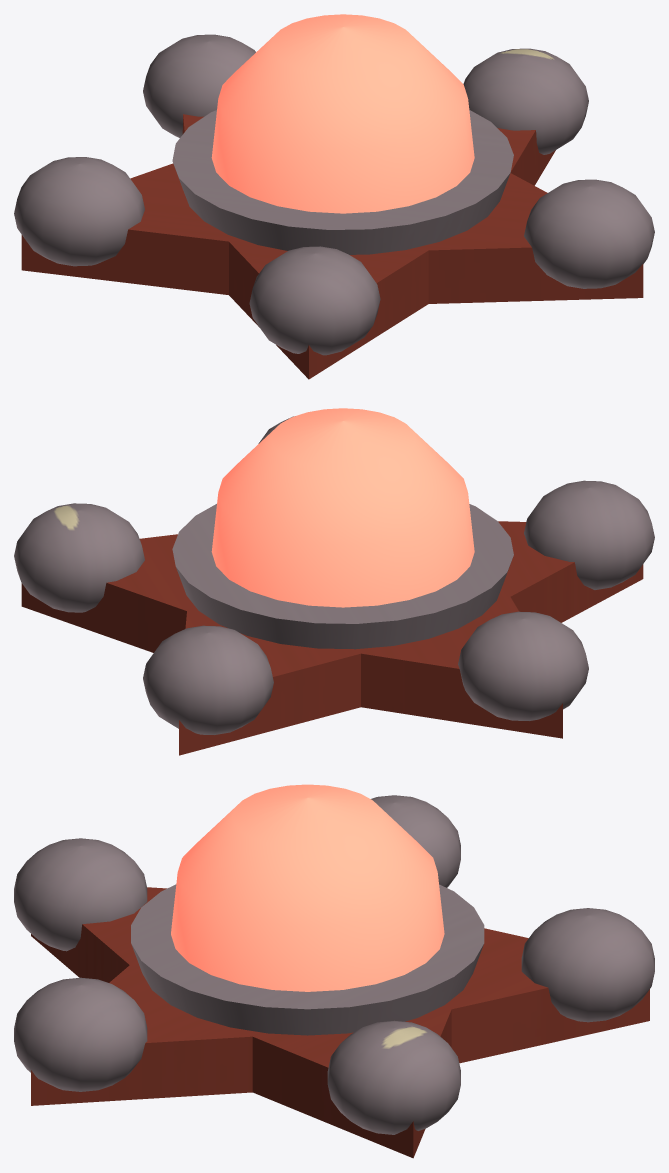
Rendered from R4D_ExplosiveTrap.glb.
3 views of the same model, one above another, from view 1: azimuth 30°, elevation 25°; view 2: azimuth 150°, elevation 25°; view 3: azimuth 270°, elevation 25° (orthographic). The views are drawn at different scales.
Parts seen in each view (by area): view 1: R4D_ExplosiveTrap_Body, R4D_ExplosiveTrap_Lamp; view 2: R4D_ExplosiveTrap_Body, R4D_ExplosiveTrap_Lamp; view 3: R4D_ExplosiveTrap_Body, R4D_ExplosiveTrap_Lamp.
Part boxes in pixels (x1=…): R4D_ExplosiveTrap_Body: x1=14, y1=34, x2=654, y2=379; R4D_ExplosiveTrap_Lamp: x1=211, y1=14, x2=474, y2=213; R4D_ExplosiveTrap_Body: x1=14, y1=416, x2=654, y2=755; R4D_ExplosiveTrap_Lamp: x1=211, y1=408, x2=474, y2=607; R4D_ExplosiveTrap_Body: x1=14, y1=795, x2=654, y2=1158; R4D_ExplosiveTrap_Lamp: x1=171, y1=784, x2=444, y2=991.
Bounding box in the file's own units: 0.4899 × 0.18 × 0.4683.
Materials: 3 (2 with a texture image).
